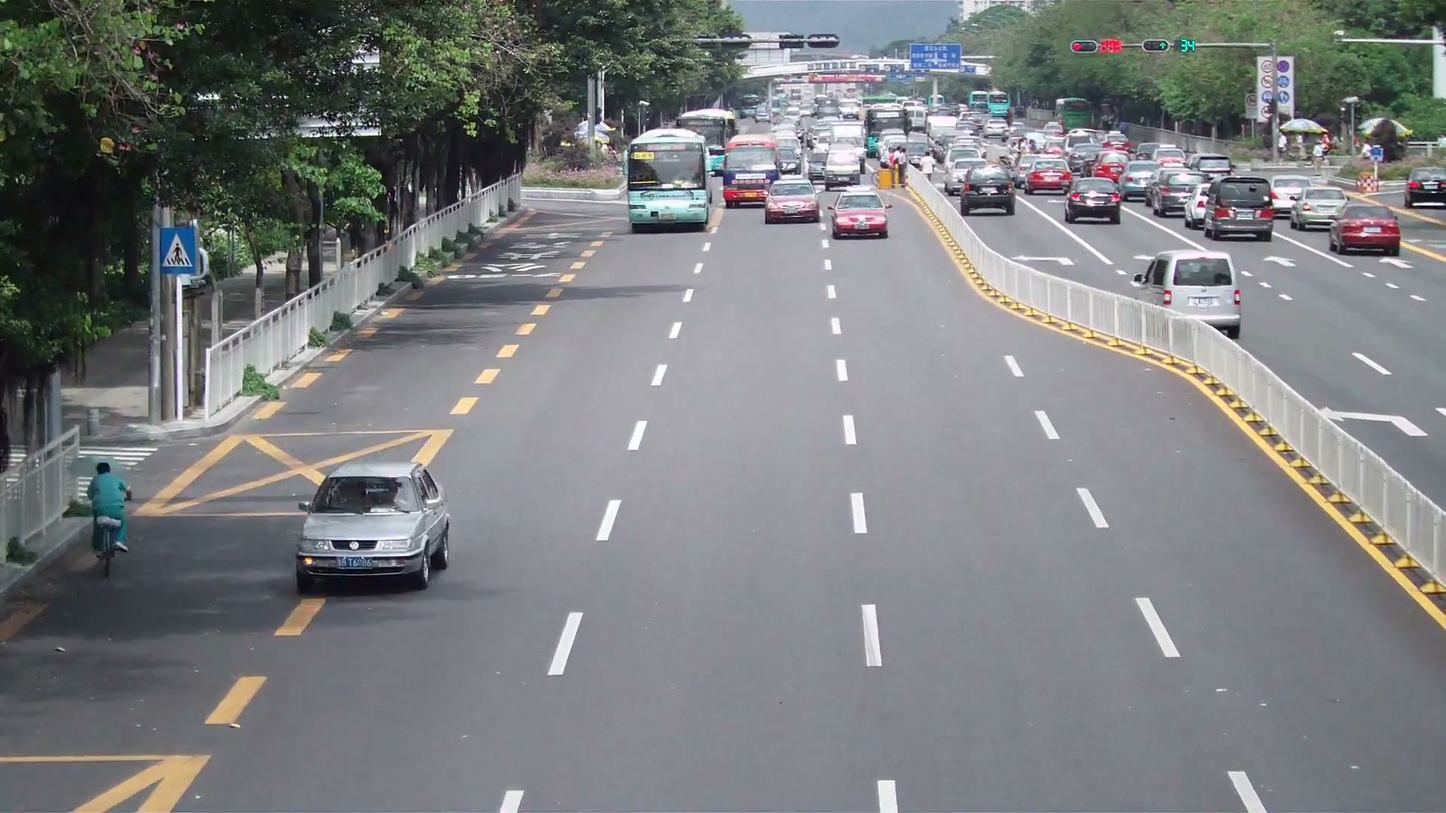bus: (626, 127, 712, 233), (724, 133, 779, 206), (676, 108, 737, 172)
car: (293, 460, 452, 593), (1133, 250, 1243, 338), (1205, 177, 1275, 241), (1329, 202, 1401, 256), (830, 188, 890, 239), (961, 165, 1017, 216), (1063, 176, 1122, 224), (763, 177, 820, 223), (1291, 186, 1347, 231), (1149, 171, 1200, 217), (1024, 158, 1073, 193), (1404, 170, 1445, 206), (1119, 166, 1158, 201)
pedestrian: (88, 458, 131, 553)
